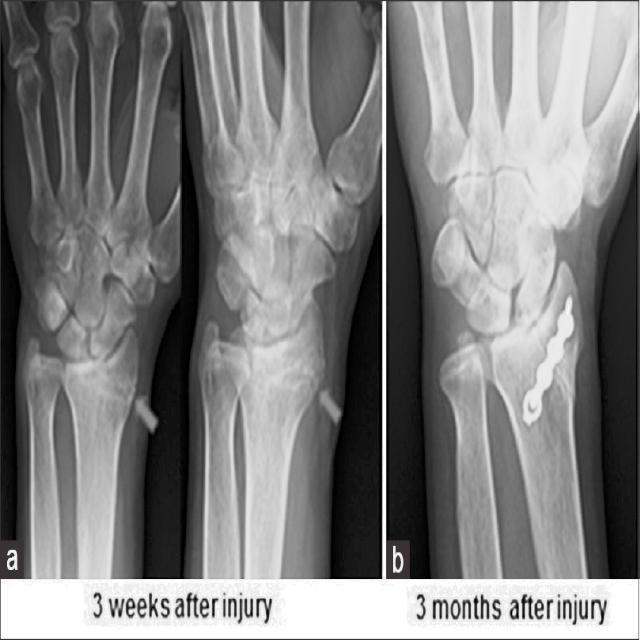Intra-articular fracture: (283, 335, 327, 408)
